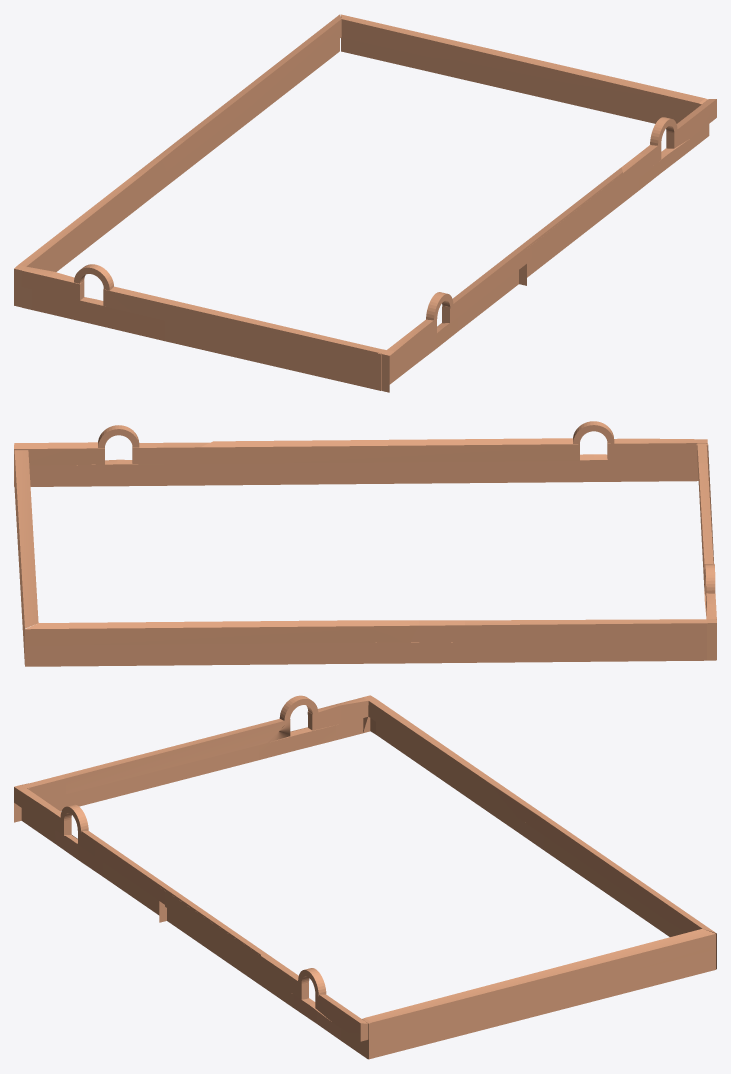
The model's file is parc_wall.fbx.
3 renders of one model, top to bottom at view 1: azimuth 30°, elevation 25°; view 2: azimuth 150°, elevation 25°; view 3: azimuth 270°, elevation 25°, orthographic. The views are drawn at different scales.
Visible parts, largest first — view 1: Ground__1_, Ground__8_, Ground__10_, Ground__5_; view 2: Ground__1_, Ground__8_, Ground__5_, Ground__10_, Arch__1_, Arch__2_; view 3: Ground__1_, Ground__10_, Ground__8_, Ground__5_.
Part boxes in pixels (<box>): Ground__1_: <box>14,14,707,390</box>; Ground__8_: <box>381,167,622,392</box>; Ground__10_: <box>21,266,385,353</box>; Ground__5_: <box>519,99,716,285</box>; Ground__1_: <box>14,443,716,666</box>; Ground__8_: <box>199,438,707,463</box>; Ground__5_: <box>14,442,404,486</box>; Ground__10_: <box>697,443,716,619</box>; Arch__1_: <box>98,425,139,447</box>; Arch__2_: <box>573,421,614,443</box>; Ground__1_: <box>22,695,716,1059</box>; Ground__10_: <box>22,697,368,811</box>; Ground__8_: <box>14,785,275,995</box>; Ground__5_: <box>159,891,368,1059</box>.
Bounding box in the file's own units: 35460 × 2769 × 31800.
